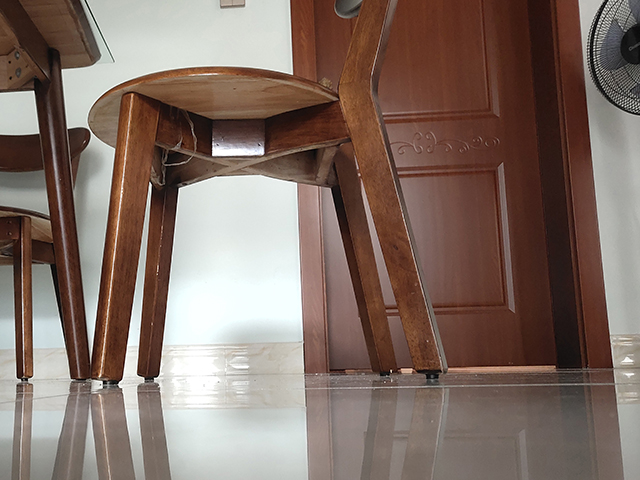stool: (87, 1, 450, 386)
table: (1, 1, 116, 383)
